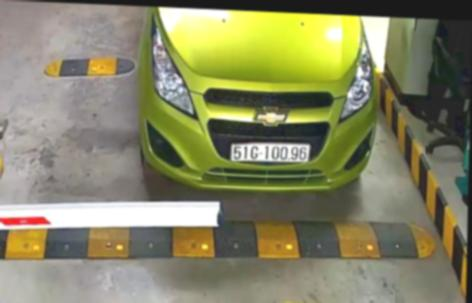License_Plate: (229, 138, 311, 163)
